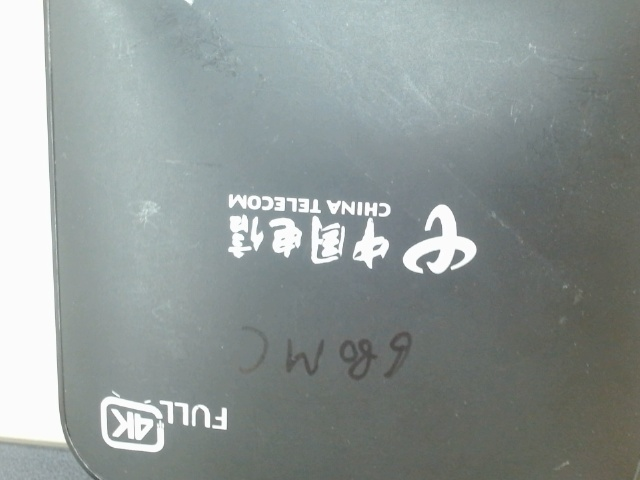AB_ChinaTelecom: (207, 171, 496, 288)
